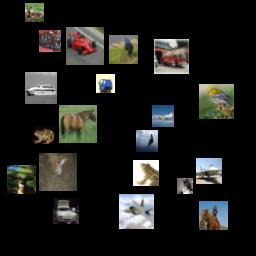airplane: (119, 194, 154, 229), (196, 158, 222, 184), (152, 105, 174, 127), (136, 130, 158, 152)
automobile: (66, 27, 104, 65), (53, 198, 79, 224)
bird: (199, 84, 234, 119), (109, 35, 138, 64)
cat: (177, 178, 193, 194)
deer: (39, 153, 77, 191), (7, 165, 36, 194), (25, 3, 44, 22)
frog: (133, 160, 159, 186), (33, 122, 55, 144)
ship: (25, 72, 57, 104)
truck: (154, 39, 189, 74), (39, 30, 61, 52), (96, 74, 115, 93)
